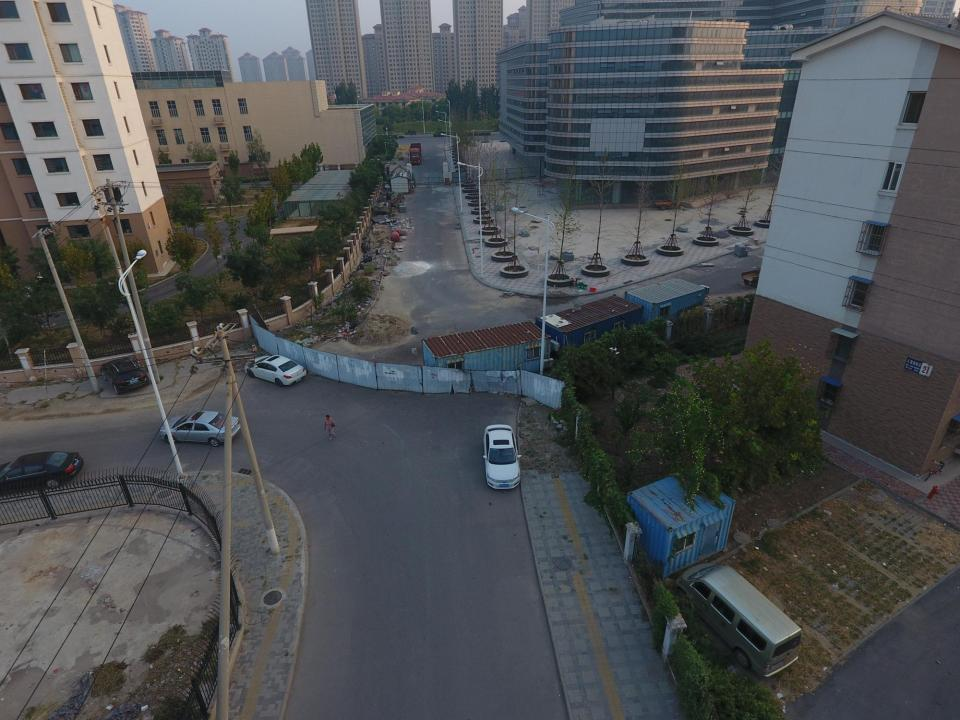car: (0, 445, 85, 489), (157, 410, 245, 448), (481, 424, 525, 490), (243, 353, 306, 388), (99, 355, 152, 396)
truck: (406, 142, 422, 164)
van: (676, 554, 799, 680)
